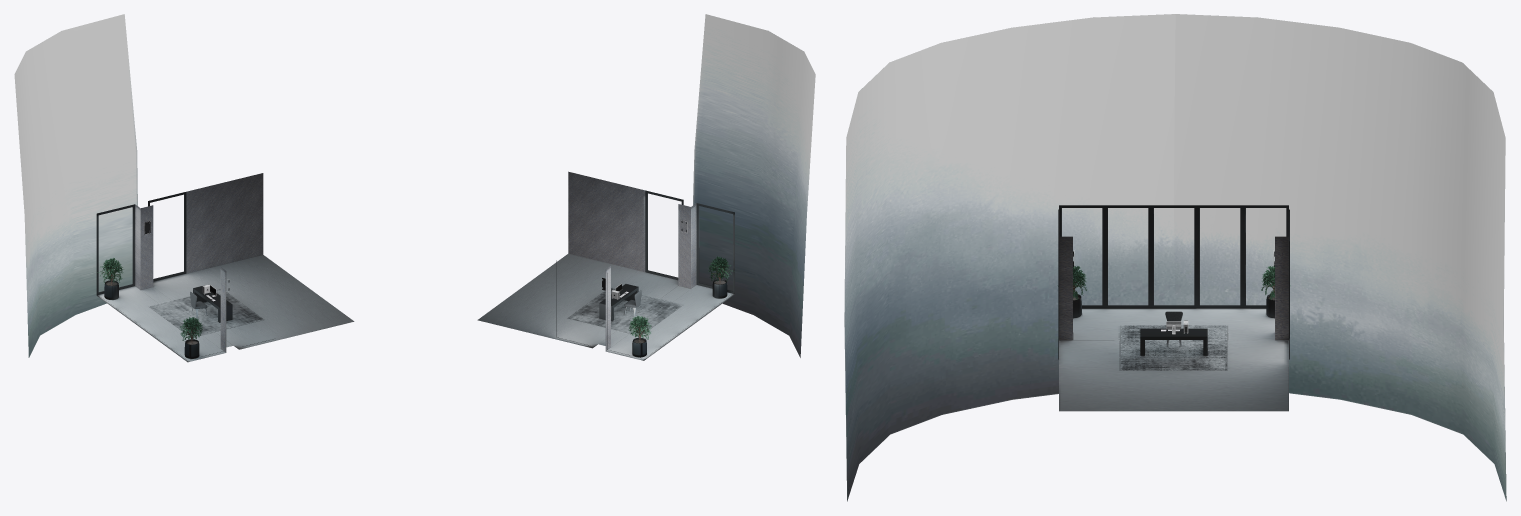
Rendered from desk_scene.glb.
3 views of the same model, side by side, from view 1: azimuth 30°, elevation 25°; view 2: azimuth 150°, elevation 25°; view 3: azimuth 270°, elevation 25° (orthographic). The views are drawn at different scales.
Parts seen in each view (by area): view 1: Minimalistic Modern Office, room, Carpet, Minimalistic Modern Office_Plants_0.001; view 2: Minimalistic Modern Office, room, Carpet, Minimalistic Modern Office_Plants_0.001; view 3: Minimalistic Modern Office, room, Carpet.
Boxes of the visible parts, x1,y1,x2,y2 form: Minimalistic Modern Office: (14, 14, 232, 358); room: (96, 173, 354, 362); Carpet: (149, 289, 263, 336); Minimalistic Modern Office_Plants_0.001: (107, 268, 202, 340); Minimalistic Modern Office: (599, 14, 815, 357); room: (477, 171, 734, 360); Carpet: (568, 287, 682, 335); Minimalistic Modern Office_Plants_0.001: (636, 256, 734, 341); Minimalistic Modern Office: (844, 14, 1506, 501); room: (1058, 205, 1289, 411); Carpet: (1120, 325, 1227, 370).
Size of the model in its own units: 13.63 by 15.13 by 25.01.
12 materials, 10 textured.
